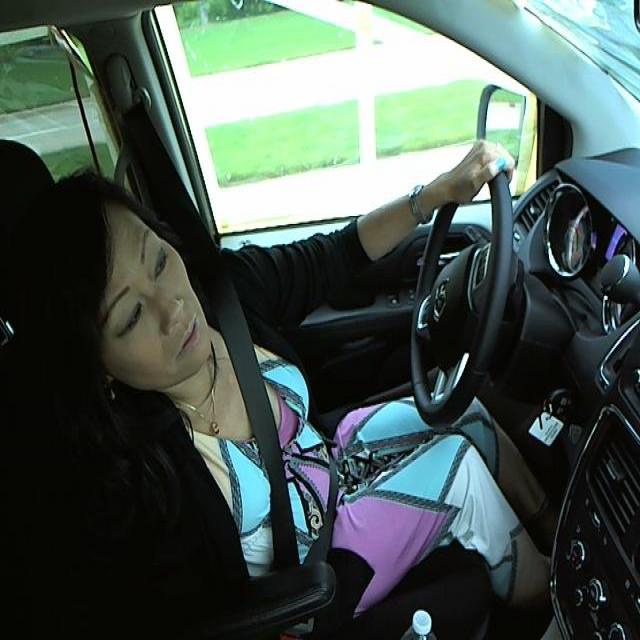seatbelt: (195, 276, 343, 563)
